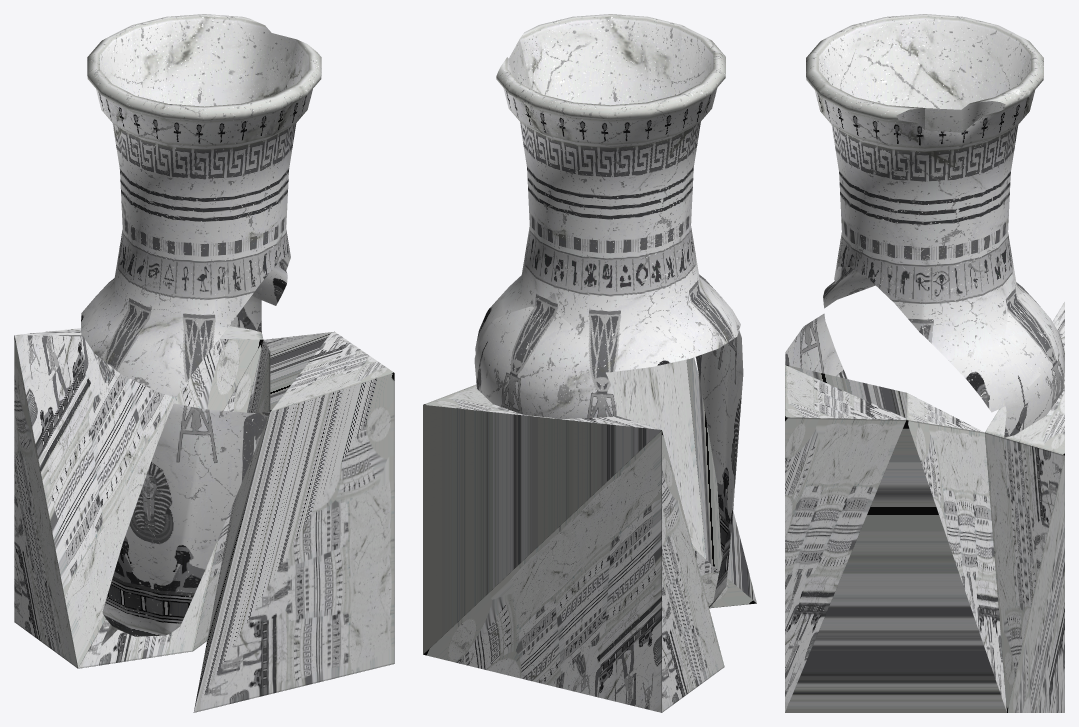
Rendered from s2-5pieces.fbx.
3 renders of one model, left to right at view 1: azimuth 30°, elevation 25°; view 2: azimuth 150°, elevation 25°; view 3: azimuth 270°, elevation 25°, orthographic. The views are drawn at different scales.
Parts seen in each view (by area): view 1: vase_A_S2_cell.002, vase_A_S2_cell, vase_A_S2_cell.003, vase_A_S2_cell.001, vase_A_S2_cell.004; view 2: vase_A_S2_cell.003, vase_A_S2_cell.002, vase_A_S2_cell, vase_A_S2_cell.004, vase_A_S2_cell.001; view 3: vase_A_S2_cell, vase_A_S2_cell.002, vase_A_S2_cell.003, vase_A_S2_cell.004, vase_A_S2_cell.001.
Part boxes in pixels (x1,y1,x2,y2): vase_A_S2_cell.002: [80, 14, 321, 397]; vase_A_S2_cell: [193, 331, 394, 712]; vase_A_S2_cell.003: [14, 326, 263, 668]; vase_A_S2_cell.001: [101, 403, 269, 645]; vase_A_S2_cell.004: [81, 288, 261, 335]; vase_A_S2_cell.003: [423, 384, 724, 712]; vase_A_S2_cell.002: [475, 14, 740, 372]; vase_A_S2_cell: [606, 357, 756, 608]; vase_A_S2_cell.004: [474, 293, 616, 418]; vase_A_S2_cell.001: [695, 330, 743, 607]; vase_A_S2_cell: [785, 365, 1006, 712]; vase_A_S2_cell.002: [806, 14, 1043, 412]; vase_A_S2_cell.003: [985, 302, 1064, 712]; vase_A_S2_cell.004: [998, 279, 1064, 437]; vase_A_S2_cell.001: [785, 313, 847, 378].
Bounding box in the file's own units: 10749 × 24640 × 10586.
